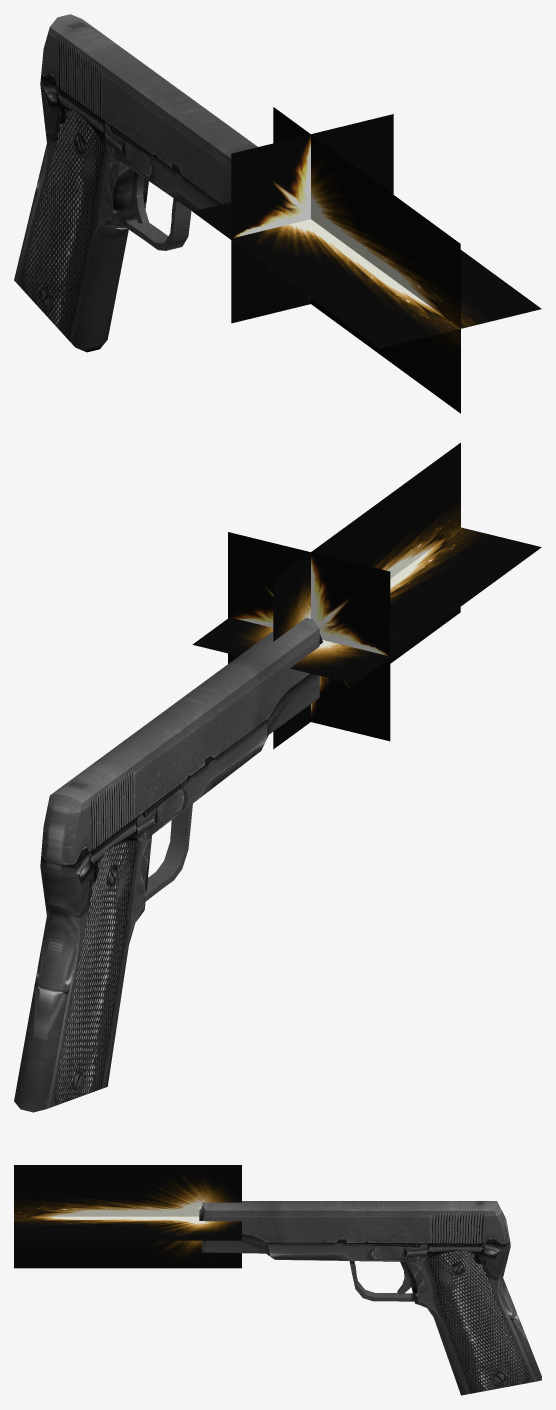
Rendered from pistol.FBX.
The picture shows the model from 3 angles, top to bottom: view 1: azimuth 30°, elevation 25°; view 2: azimuth 150°, elevation 25°; view 3: azimuth 270°, elevation 25°; orthographic projection. The views are drawn at different scales.
Visible parts, largest first — view 1: muzzle, pistol; view 2: pistol, muzzle; view 3: pistol, muzzle.
Part boxes in pixels (x1=…): muzzle: x1=192, y1=107, x2=541, y2=413; pistol: x1=14, y1=14, x2=257, y2=352; pistol: x1=14, y1=618, x2=322, y2=1112; muzzle: x1=192, y1=442, x2=541, y2=749; pistol: x1=199, y1=1201, x2=541, y2=1395; muzzle: x1=14, y1=1165, x2=241, y2=1268.
Size of the model in its own units: 50.53 by 232 by 111.
